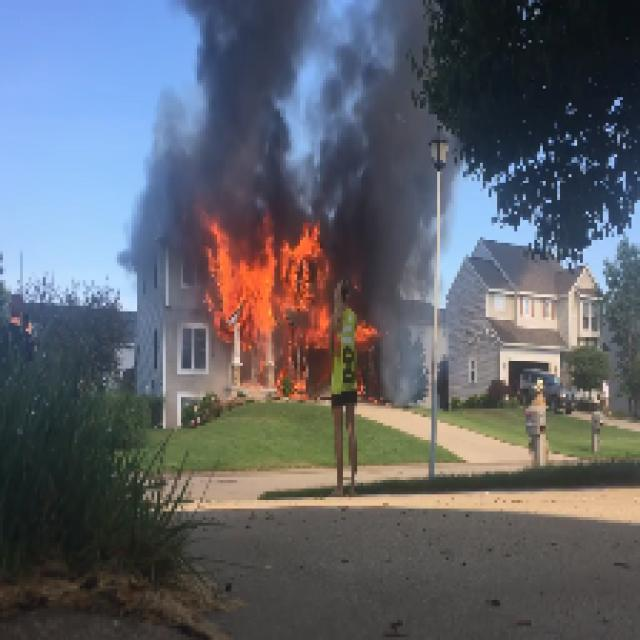fire: (207, 247, 326, 343)
smoke: (189, 17, 302, 230), (360, 42, 441, 325)
